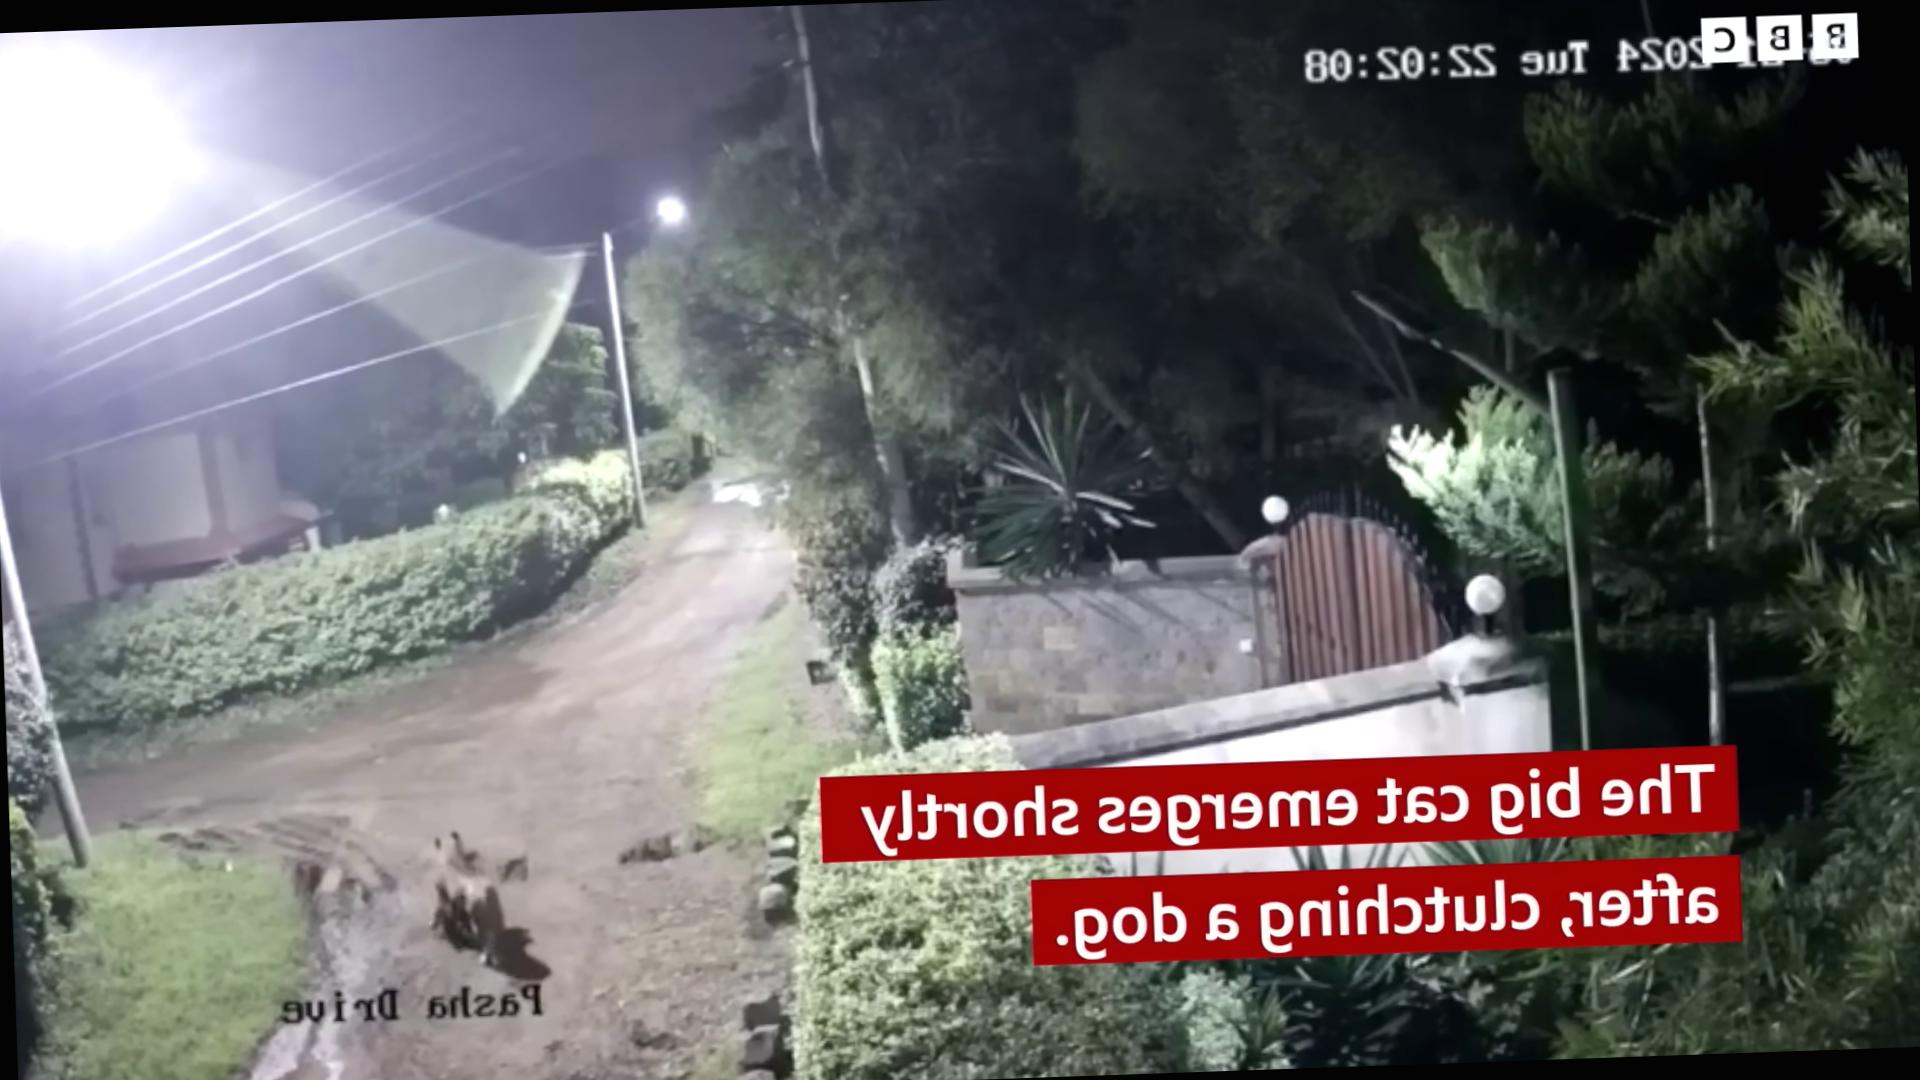lions: (276, 779, 632, 1080)
